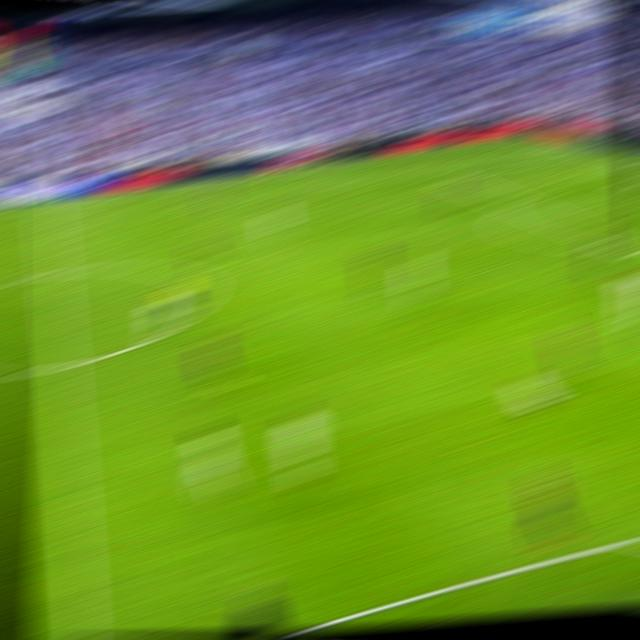bigarea_bottom_outter: (501, 197, 525, 207)
halfcircle_bottom: (45, 351, 76, 380)
halfcircle_top: (39, 260, 68, 286)
midline_top_intersection: (34, 201, 60, 212)
